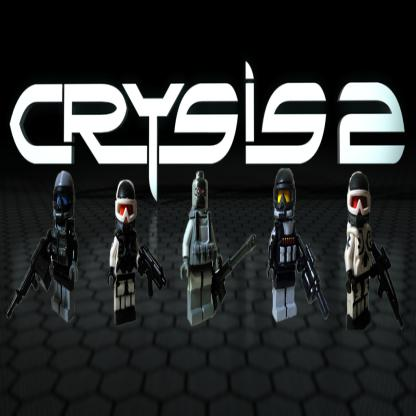Helmet: (274, 179, 302, 238), (52, 166, 76, 231), (346, 170, 372, 224), (114, 179, 136, 230), (192, 171, 208, 216)
